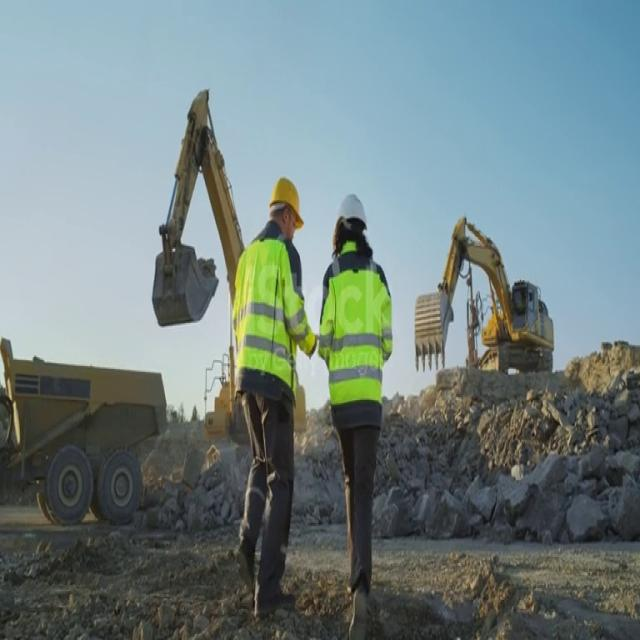capacete: (268, 157, 307, 236), (329, 183, 372, 233)
